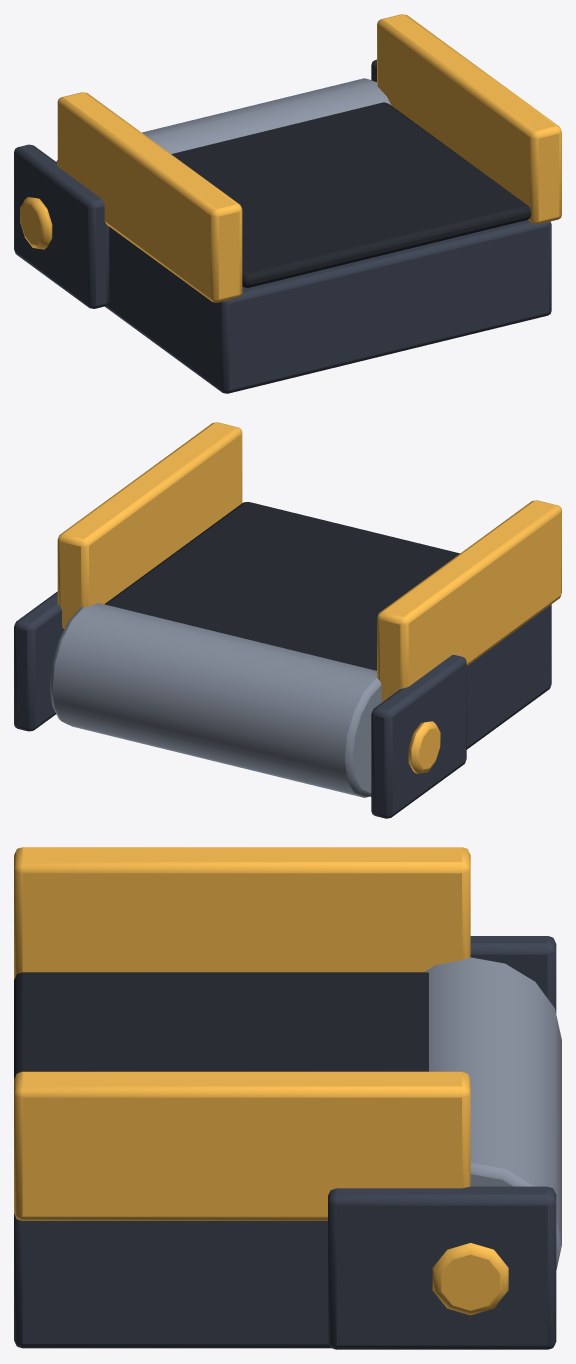
Rendered from band_ende.fbx.
3 renders of one model, top to bottom at view 1: azimuth 30°, elevation 25°; view 2: azimuth 150°, elevation 25°; view 3: azimuth 270°, elevation 25°, orthographic. The views are drawn at different scales.
Visible parts, largest first — view 1: band_ende_Koerper; view 2: band_ende_Koerper; view 3: band_ende_Koerper.
Boxes of the visible parts, x1,y1,x2,y2 form: band_ende_Koerper: (14,14,561,393); band_ende_Koerper: (14,422,561,818); band_ende_Koerper: (14,847,561,1349).
Bounding box in the file's own units: 1.16 × 0.52 × 0.96.
